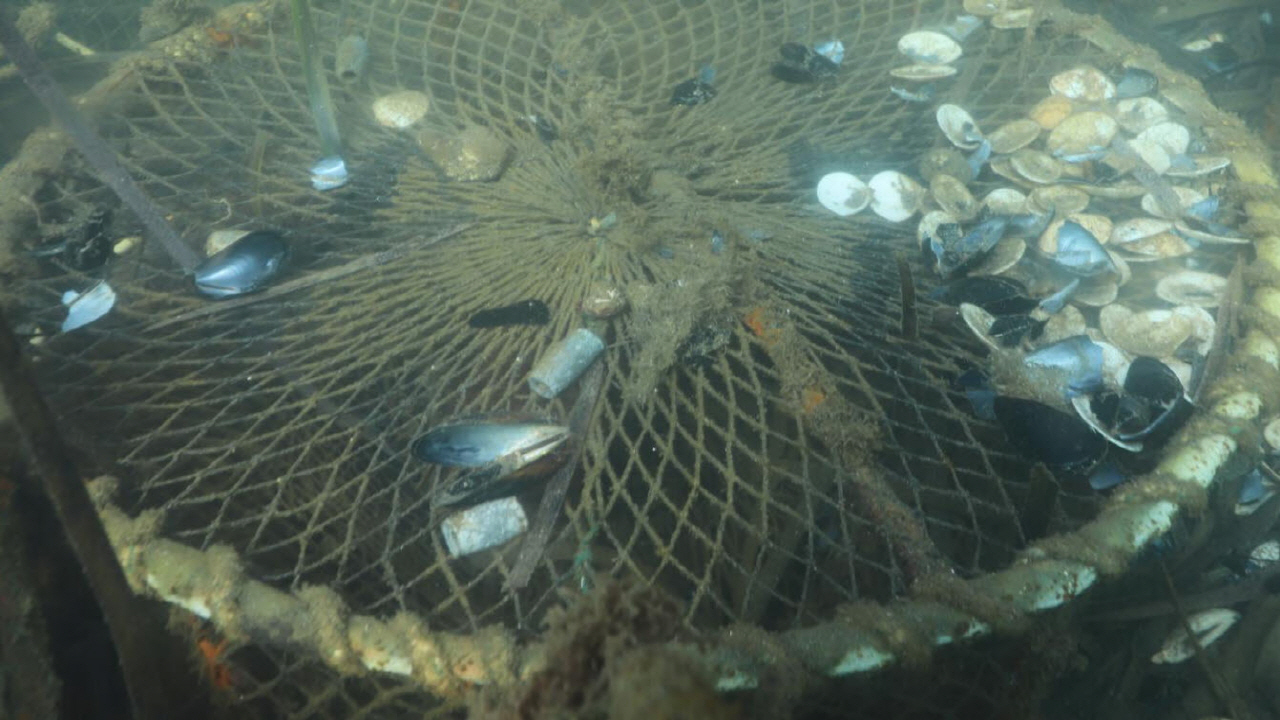circular fish trap: (0, 0, 1280, 693)
